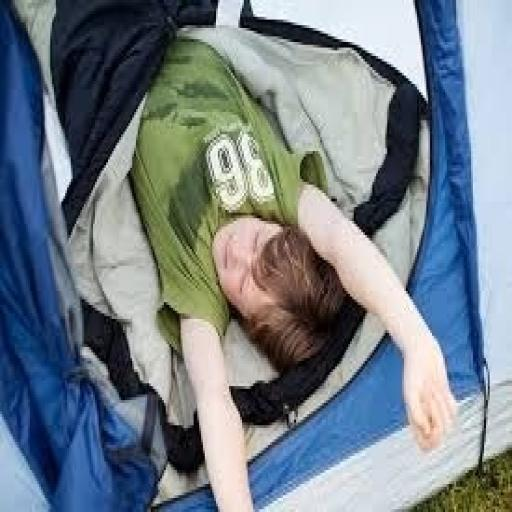sleeping: (46, 0, 460, 509)
